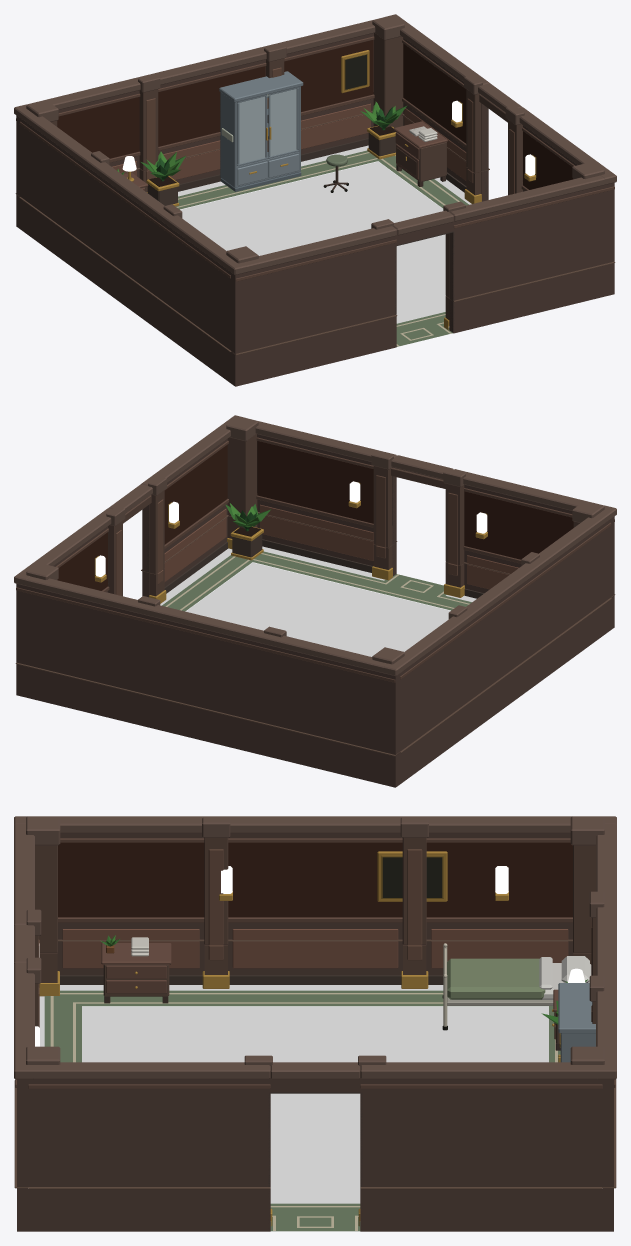
Rendered from infirmary1.glb.
3 renders of one model, top to bottom at view 1: azimuth 30°, elevation 25°; view 2: azimuth 150°, elevation 25°; view 3: azimuth 270°, elevation 25°, orthographic. The views are drawn at different scales.
Visible parts, largest first — view 1: static, W_north_0_up, floor, W_west_0_up, W_south_0_up, W_south_1_up, W_east_0_up, W_east_1_up; view 2: W_north_0_up, static, W_west_0_up, floor, W_south_1_up, W_south_0_up, W_east_1_up, W_east_0_up; view 3: W_west_0_up, static, floor, W_east_0_up, W_east_1_up, W_north_0_up, W_south_0_up, W_south_1_up.
Part boxes in pixels (left/top/right/bottom): static: left=15, top=71, right=615, bottom=386; W_north_0_up: left=14, top=15, right=404, bottom=196; floor: left=175, top=145, right=471, bottom=346; W_west_0_up: left=14, top=104, right=246, bottom=350; W_south_0_up: left=226, top=210, right=453, bottom=353; W_south_1_up: left=443, top=162, right=616, bottom=300; W_east_0_up: left=385, top=14, right=522, bottom=173; W_east_1_up: left=505, top=105, right=616, bottom=195; W_north_0_up: left=14, top=563, right=404, bottom=754; static: left=15, top=493, right=615, bottom=787; W_west_0_up: left=384, top=505, right=616, bottom=751; floor: left=160, top=546, right=476, bottom=656; W_south_1_up: left=226, top=416, right=396, bottom=547; W_south_0_up: left=391, top=455, right=616, bottom=597; W_east_1_up: left=141, top=415, right=245, bottom=574; W_east_0_up: left=14, top=484, right=152, bottom=596; W_west_0_up: left=14, top=816, right=616, bottom=945; static: left=14, top=935, right=616, bottom=1231; floor: left=39, top=985, right=560, bottom=1231; W_east_0_up: left=270, top=1055, right=616, bottom=1186; W_east_1_up: left=14, top=1055, right=272, bottom=1186; W_north_0_up: left=570, top=816, right=616, bottom=1186; W_south_0_up: left=14, top=816, right=60, bottom=987; W_south_1_up: left=14, top=957, right=60, bottom=1186.
Size of the model in its own units: 8.08 by 2.48 by 8.08.
